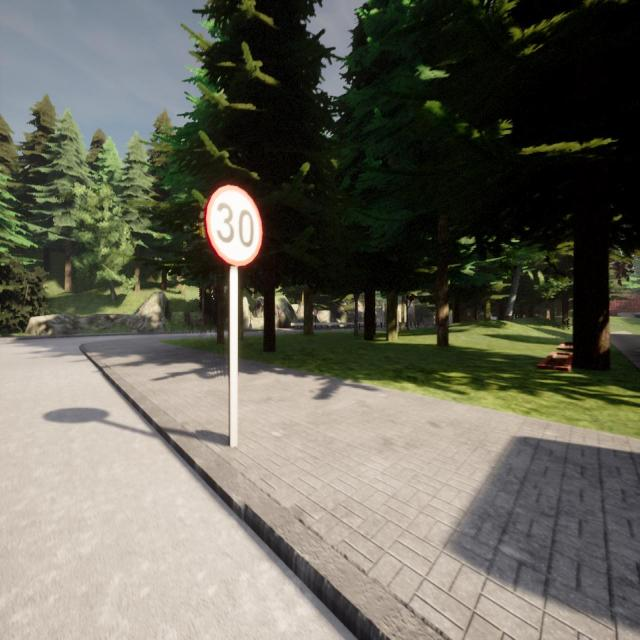Traffic_Signs: (204, 182, 263, 268)
